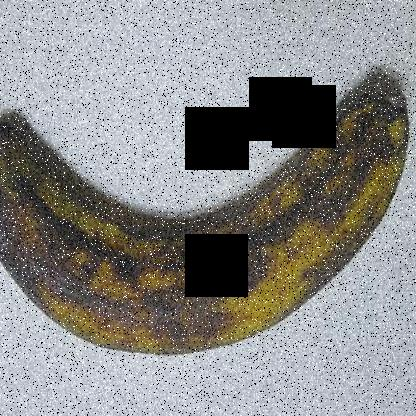overripe: (0, 59, 415, 372)
rotten: (0, 109, 29, 227)
